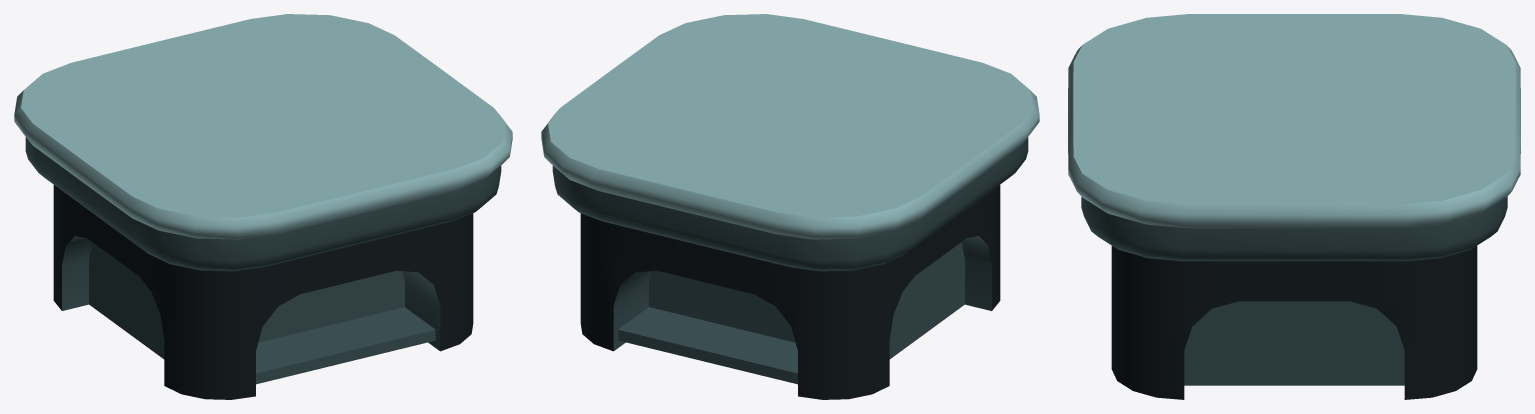
File: FI_033_table_var3.glb
3 views of the same model, side by side, from view 1: azimuth 30°, elevation 25°; view 2: azimuth 150°, elevation 25°; view 3: azimuth 270°, elevation 25° (orthographic). The views are drawn at different scales.
Parts seen in each view (by area): view 1: table_var3; view 2: table_var3; view 3: table_var3.
Part boxes in pixels (x1=…): table_var3: x1=14, y1=14, x2=512, y2=399; table_var3: x1=541, y1=14, x2=1039, y2=399; table_var3: x1=1068, y1=14, x2=1520, y2=399.
Size of the model in its own units: 1.48 by 0.75 by 1.46.
